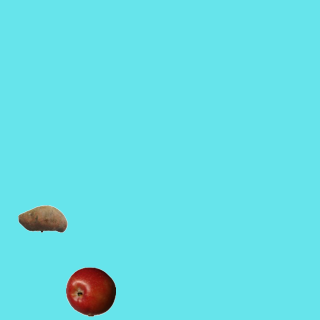Apple Braeburn: (65, 266, 115, 316)
Potato Sweet: (17, 193, 67, 243)
